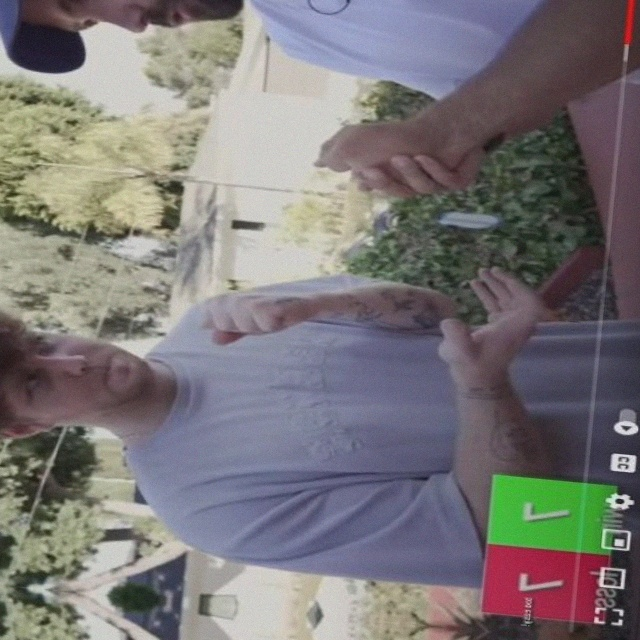Rock: (310, 111, 469, 185), (192, 289, 314, 354)
